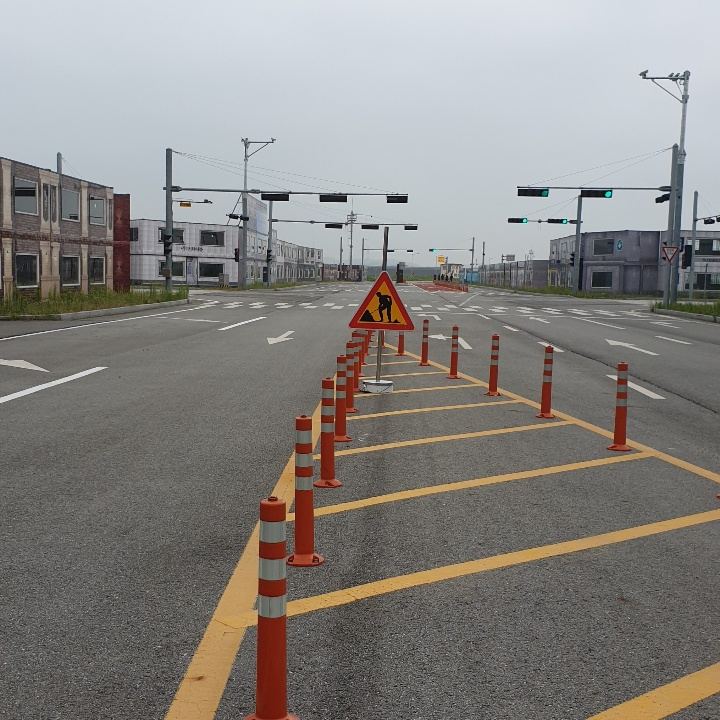const: (357, 283, 406, 324)
